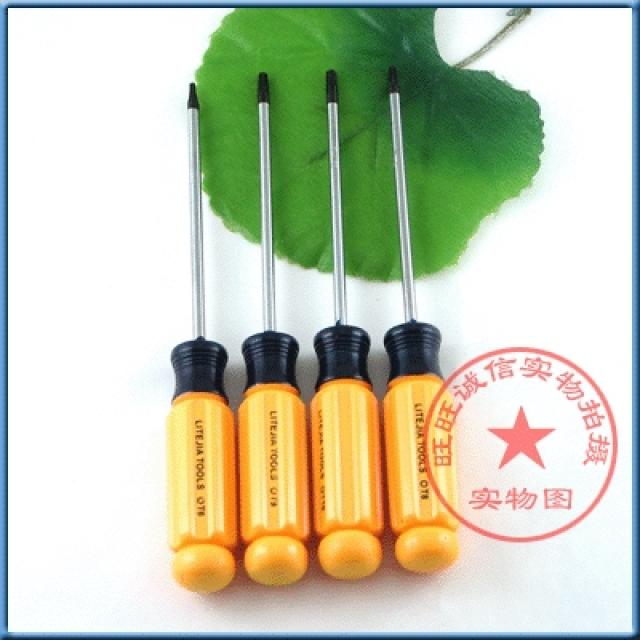screw_driver: (372, 58, 466, 576), (223, 52, 313, 591), (296, 64, 382, 587), (169, 75, 239, 594)
